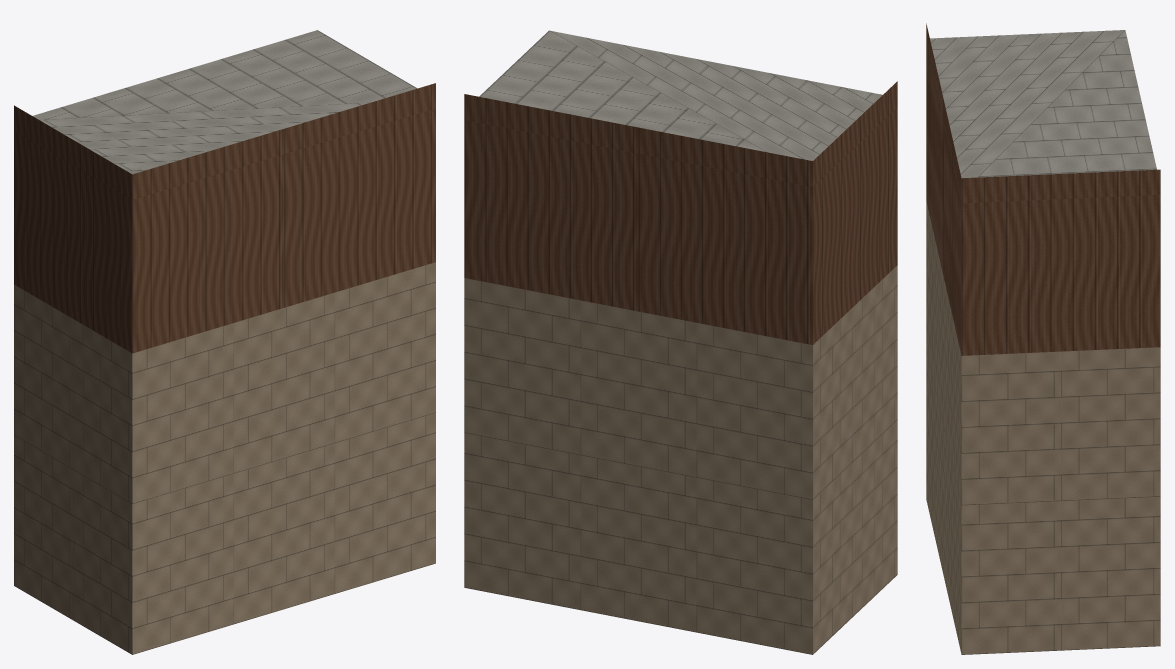
Rendered from bld_c10_20_422.gltf.
3 renders of one model, left to right at view 1: azimuth 30°, elevation 25°; view 2: azimuth 150°, elevation 25°; view 3: azimuth 270°, elevation 25°, orthographic. The views are drawn at different scales.
Parts seen in each view (by area): view 1: bld_c10_20_422; view 2: bld_c10_20_422; view 3: bld_c10_20_422.
Part boxes in pixels (x1,y1,x2,y2): bld_c10_20_422: (14, 30, 435, 654); bld_c10_20_422: (464, 30, 897, 654); bld_c10_20_422: (926, 23, 1160, 654).
Size of the model in its own units: 5.3 by 7.18 by 3.2.
4 materials, 4 textured.
